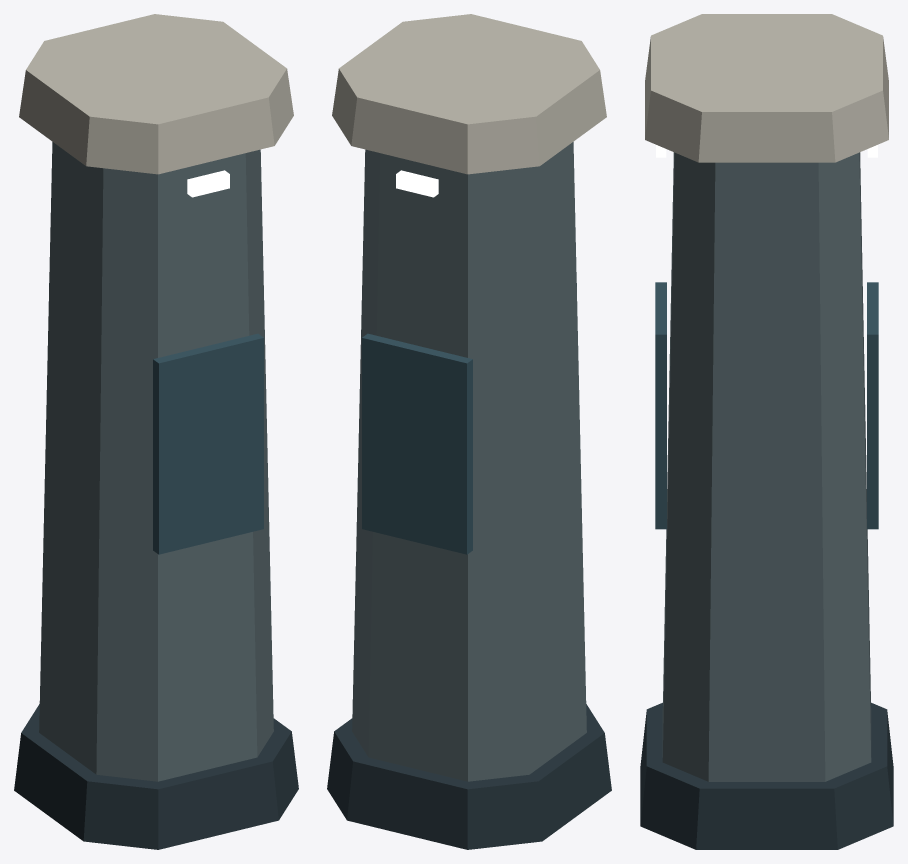
File: wall_t2_post.glb
The picture shows the model from 3 angles, left to right: view 1: azimuth 30°, elevation 25°; view 2: azimuth 150°, elevation 25°; view 3: azimuth 270°, elevation 25°; orthographic projection.
Visible parts, largest first — view 1: body, glow; view 2: body, glow; view 3: body.
Boxes of the visible parts, x1,y1,x2,y2 form: body: [14, 14, 298, 849]; glow: [187, 170, 229, 197]; body: [327, 14, 611, 849]; glow: [396, 170, 438, 197]; body: [640, 14, 893, 849].
Size of the model in its own units: 0.86 by 2.75 by 0.86.
